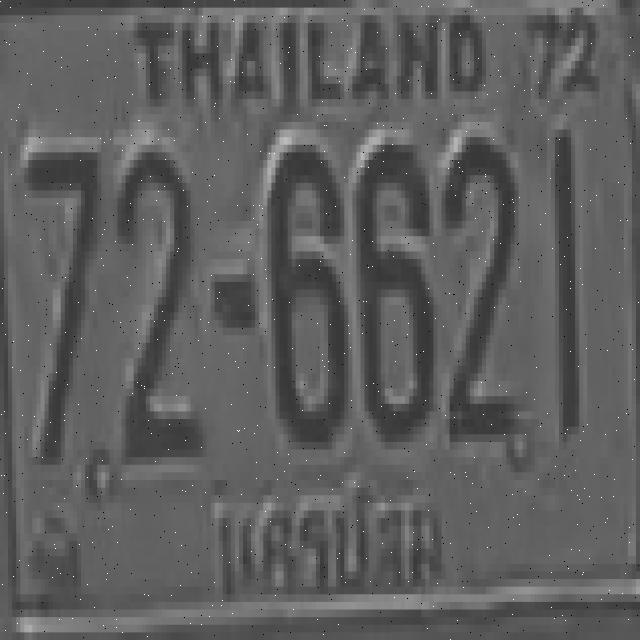1: (551, 130, 575, 426)
2: (114, 141, 194, 453), (120, 148, 197, 454), (446, 133, 514, 438)
6: (268, 137, 344, 442), (352, 137, 430, 434)
7: (24, 145, 98, 457)
NakhonPathom: (207, 482, 449, 612)
